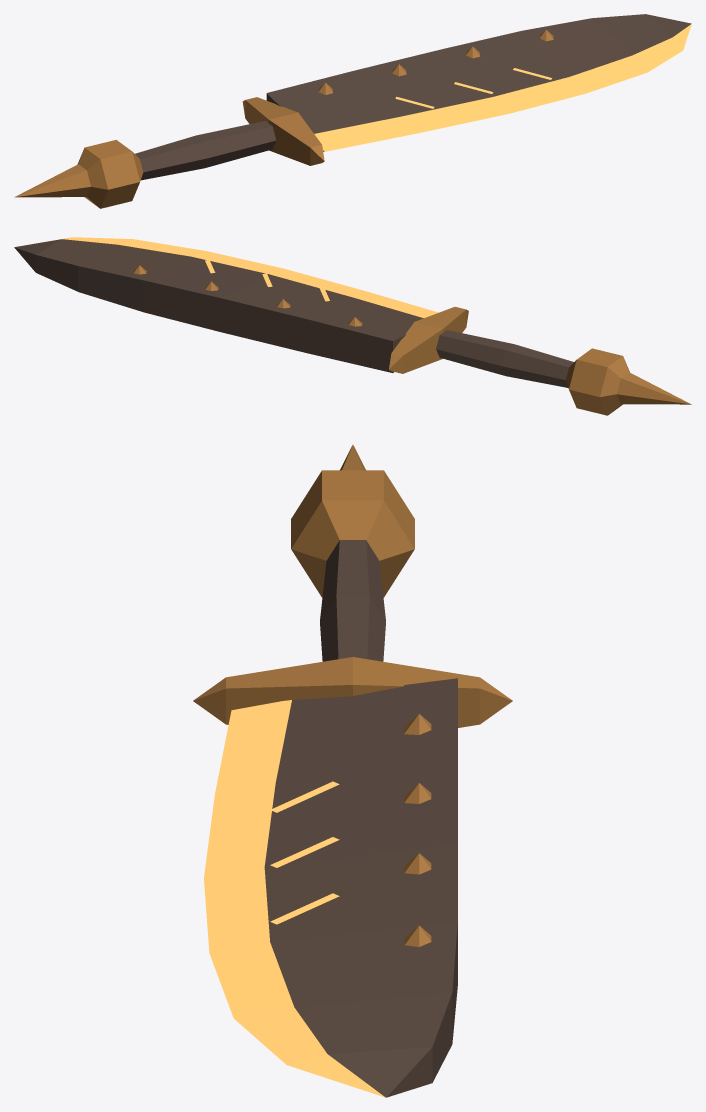
The model's file is mordred-blade.glb.
3 renders of one model, top to bottom at view 1: azimuth 30°, elevation 25°; view 2: azimuth 150°, elevation 25°; view 3: azimuth 270°, elevation 25°, orthographic. The views are drawn at different scales.
Visible parts, largest first — view 1: MORDRED_BLADE; view 2: MORDRED_BLADE; view 3: MORDRED_BLADE.
Boxes of the visible parts, <box> form: MORDRED_BLADE: <box>14,14,691,208</box>; MORDRED_BLADE: <box>14,237,691,415</box>; MORDRED_BLADE: <box>193,445,512,1097</box>.
Size of the model in its own units: 1.4 by 0.097 by 0.29.
